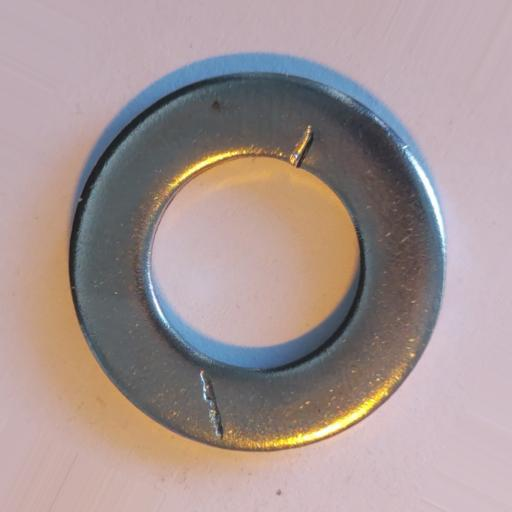scratch: (199, 369, 224, 443), (288, 124, 315, 168)
